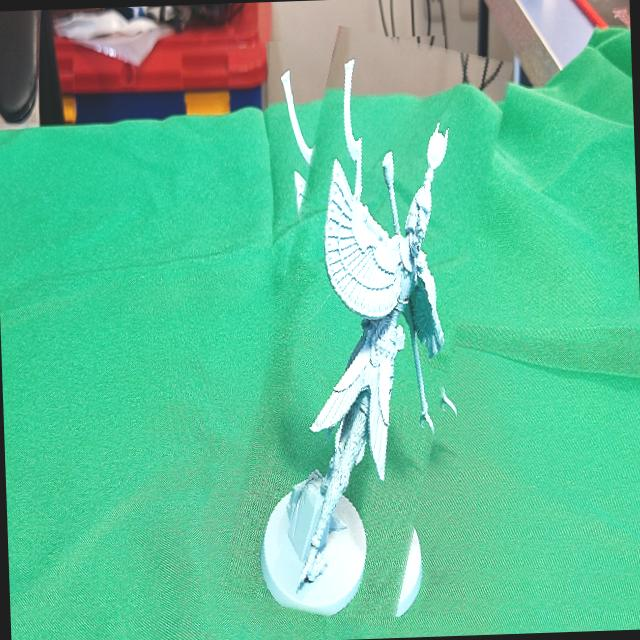isis: (232, 27, 498, 628)
